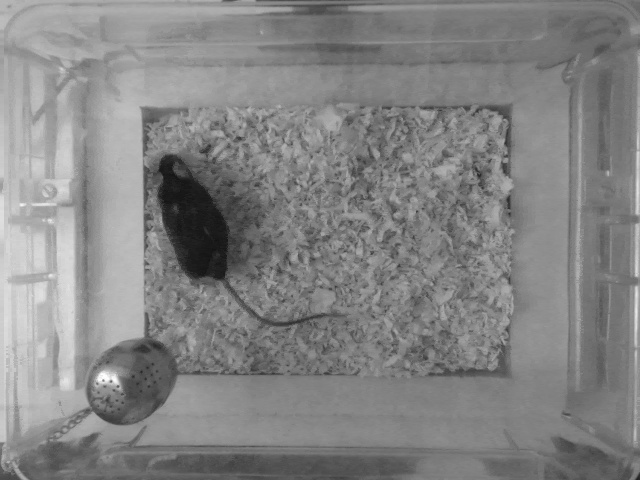mice: (151, 148, 345, 326)
